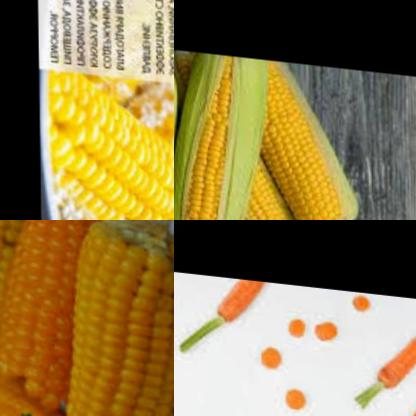carrot: (364, 285, 416, 401), (321, 372, 416, 416), (215, 272, 266, 330), (278, 378, 309, 416), (255, 338, 289, 369), (345, 285, 373, 316), (312, 310, 342, 337), (285, 305, 309, 337)
corn: (0, 220, 135, 410), (49, 220, 174, 416), (38, 71, 174, 220), (243, 50, 359, 220), (174, 43, 272, 220), (0, 363, 124, 416), (228, 143, 305, 220)
